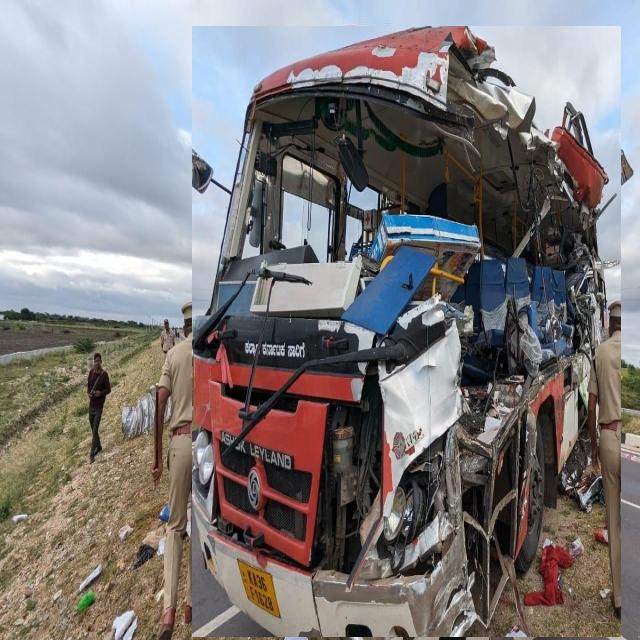accident: (192, 26, 620, 637)
